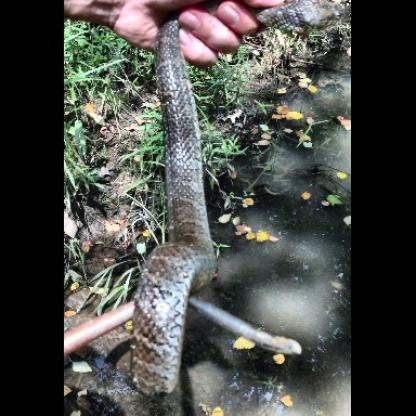Snake: (124, 49, 223, 398)
